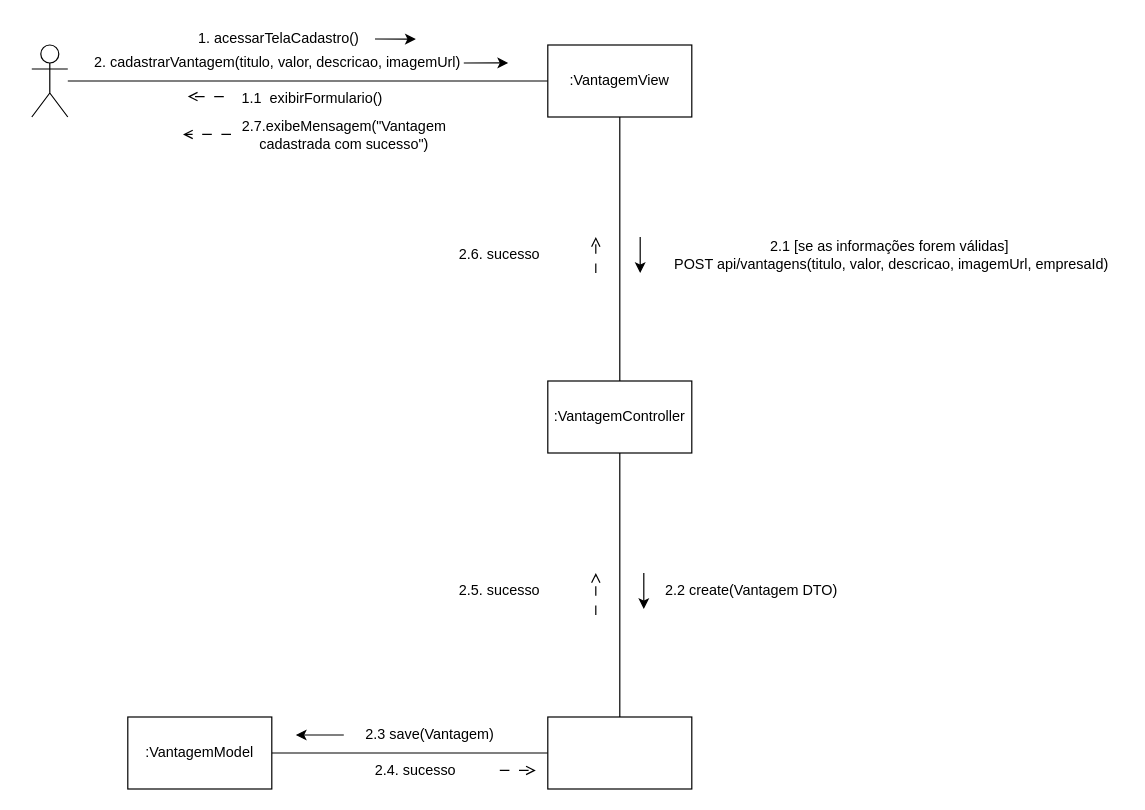
Image size: 1145x810. Some labels were removed from this diagram. The shapes that lost their labels are listed below. From the top down, each one's centre as x and y in pixels, then its label:
(49,80): Empresa
(619,752): :VantagemRepository
